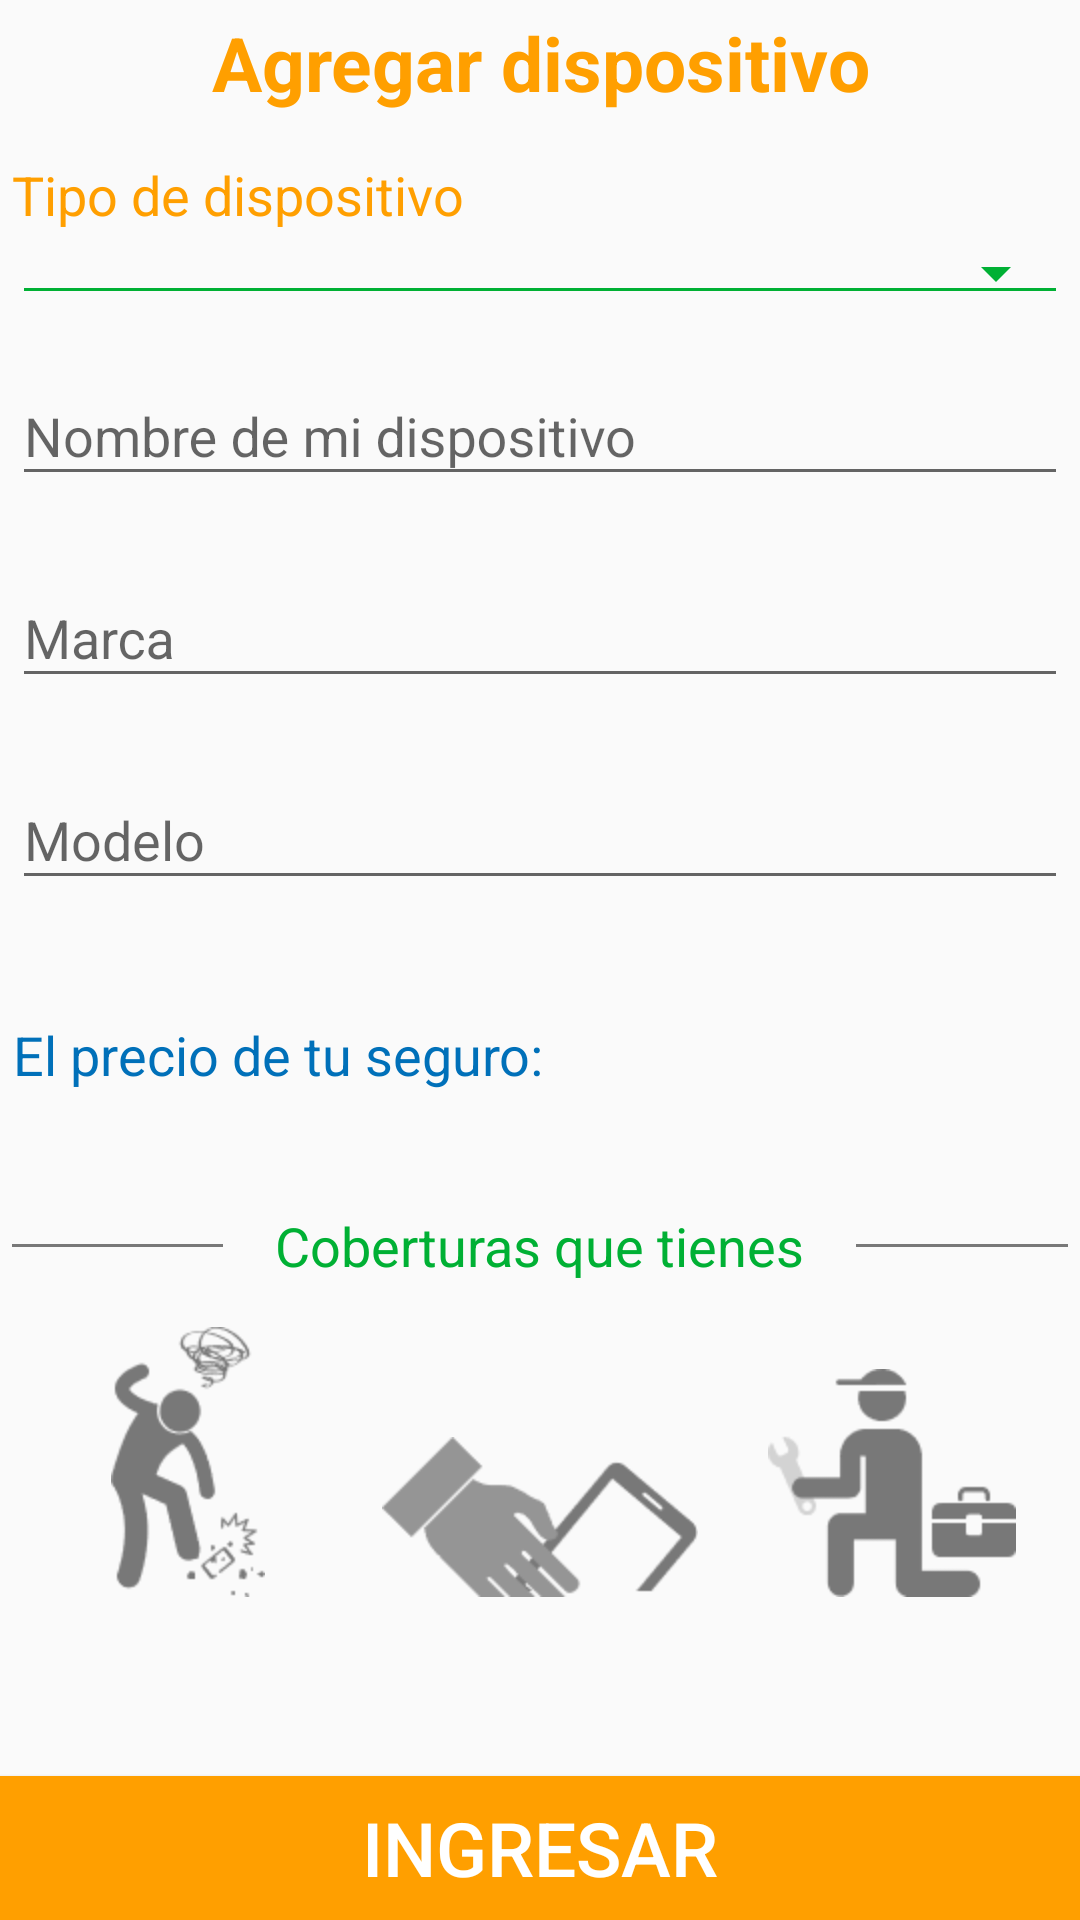

Where to tap for icons on this 1080 × 1920 app screen, as (x=x, y=y):
accidental damage: (x=188, y=1462)
mecanical: (x=892, y=1483)
theft: (x=540, y=1517)
